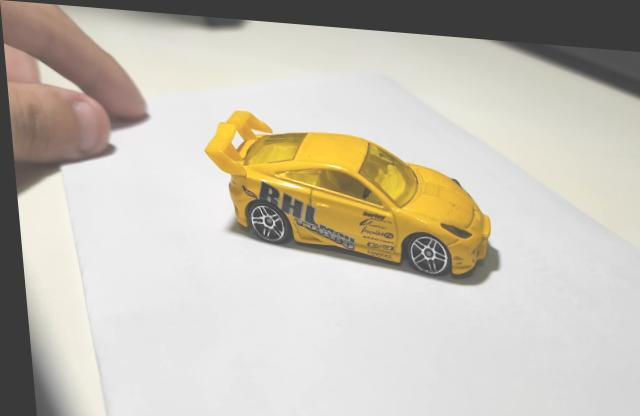07_RHLTURBO: (202, 107, 493, 275)
